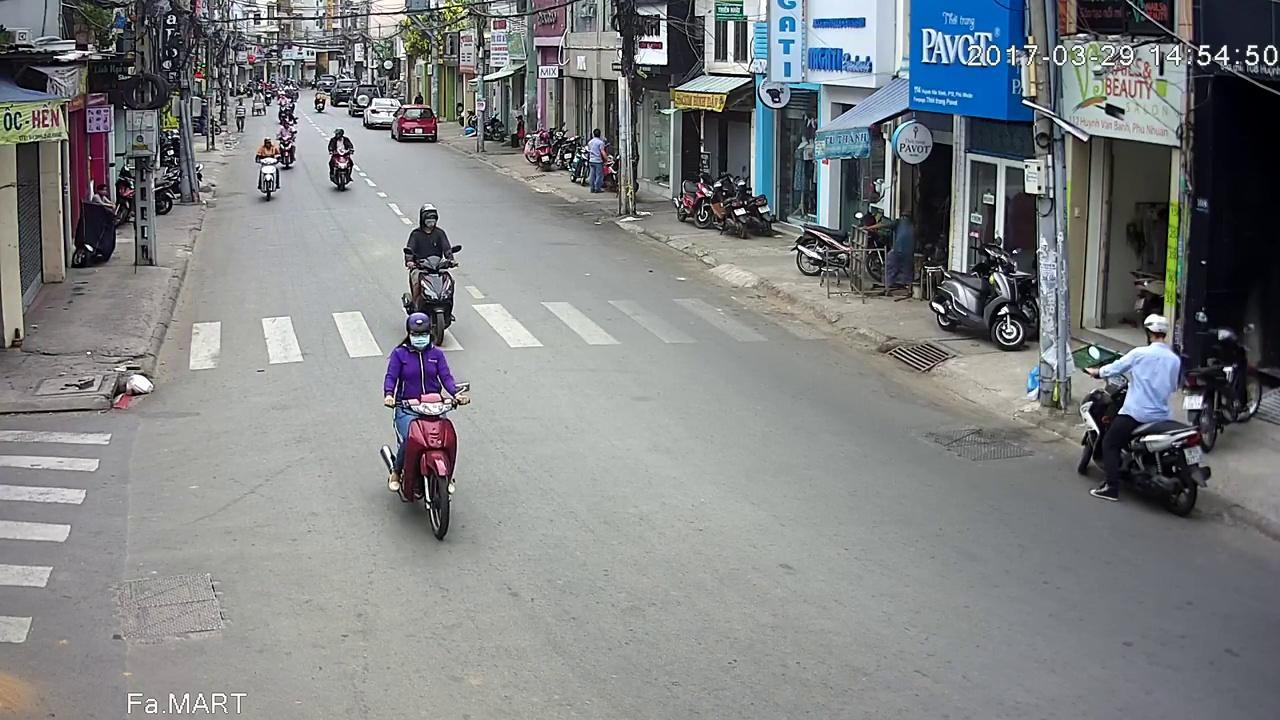xe hoi: (392, 104, 440, 142)
xe may: (1073, 310, 1207, 517), (376, 310, 468, 538), (401, 215, 462, 360), (328, 123, 356, 188), (255, 135, 282, 201), (278, 117, 298, 167)
